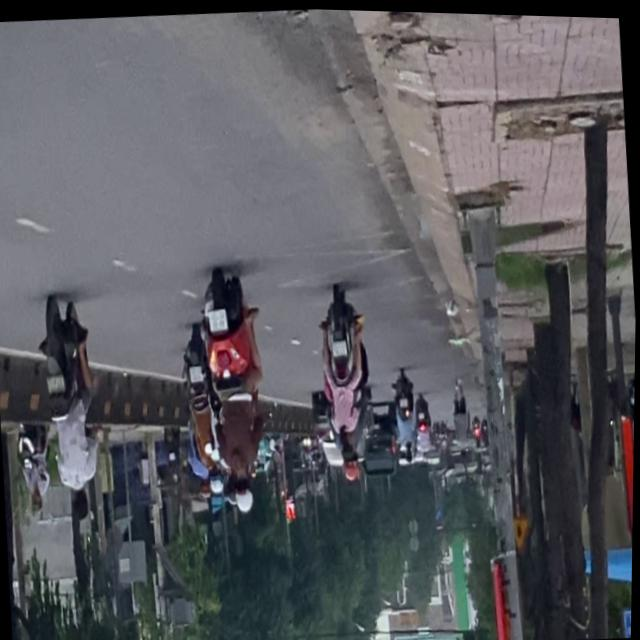helmet: (232, 473, 256, 513), (342, 454, 361, 481)
licenseplate: (196, 263, 276, 517), (34, 293, 107, 526), (311, 278, 381, 485)
motorcyclist: (69, 486, 91, 522), (339, 428, 359, 457)
nohelmet: (208, 308, 227, 332), (47, 376, 65, 394), (332, 338, 348, 355)
